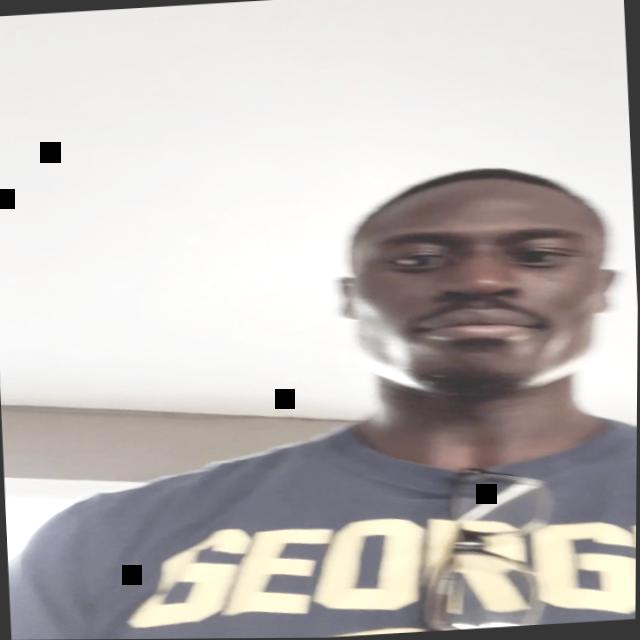NO-Mask: (351, 171, 614, 404)
